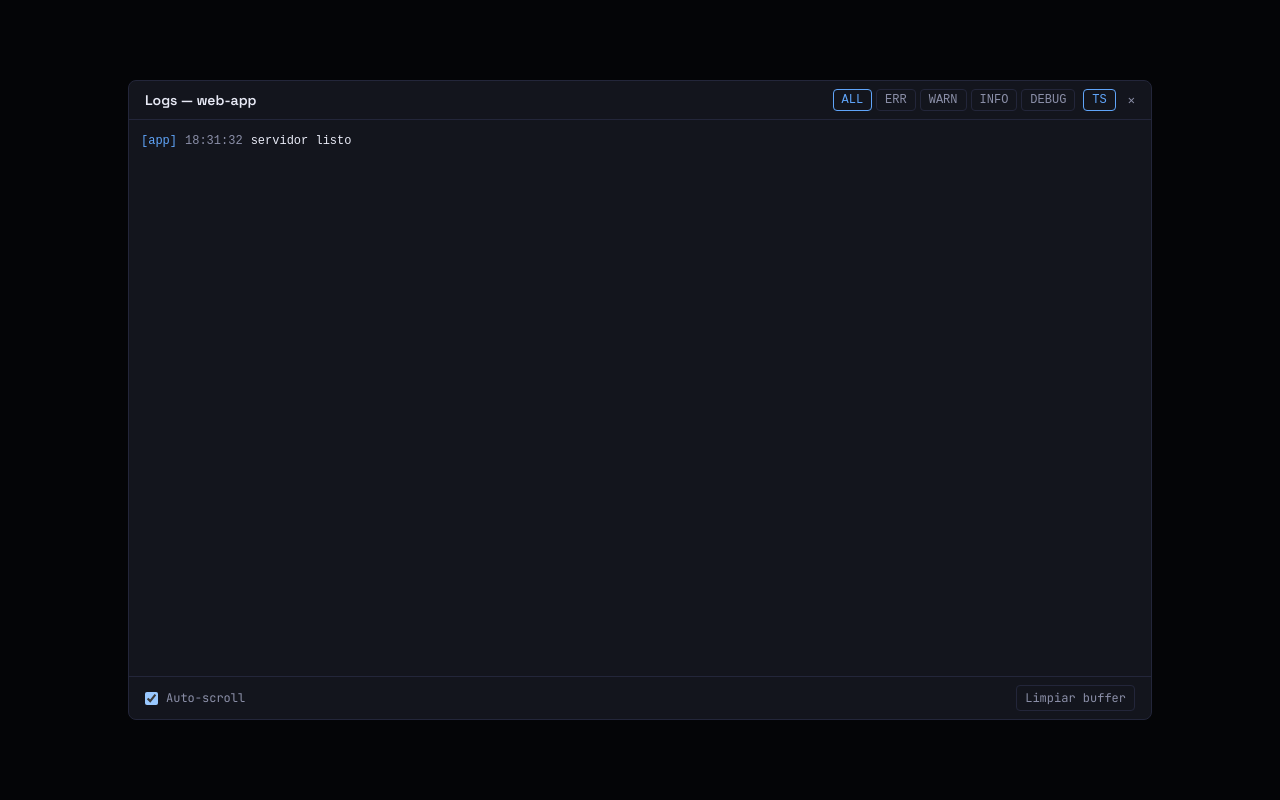
Test case: LogsModal — toggle timestamps › en las líneas de texto usa la hora de Docker y no la repite en el mensaje
Expected: the text "18:31:32" is shown, [185,134,243,148]
Expected: the text "servidor listo" is shown, [251,134,351,148]
What coordinates should you click on to do the following:
click the button with aria-label "toggle timestamps"
I would click on:
 (1100, 100)
Its box is [1083,89,1116,111].
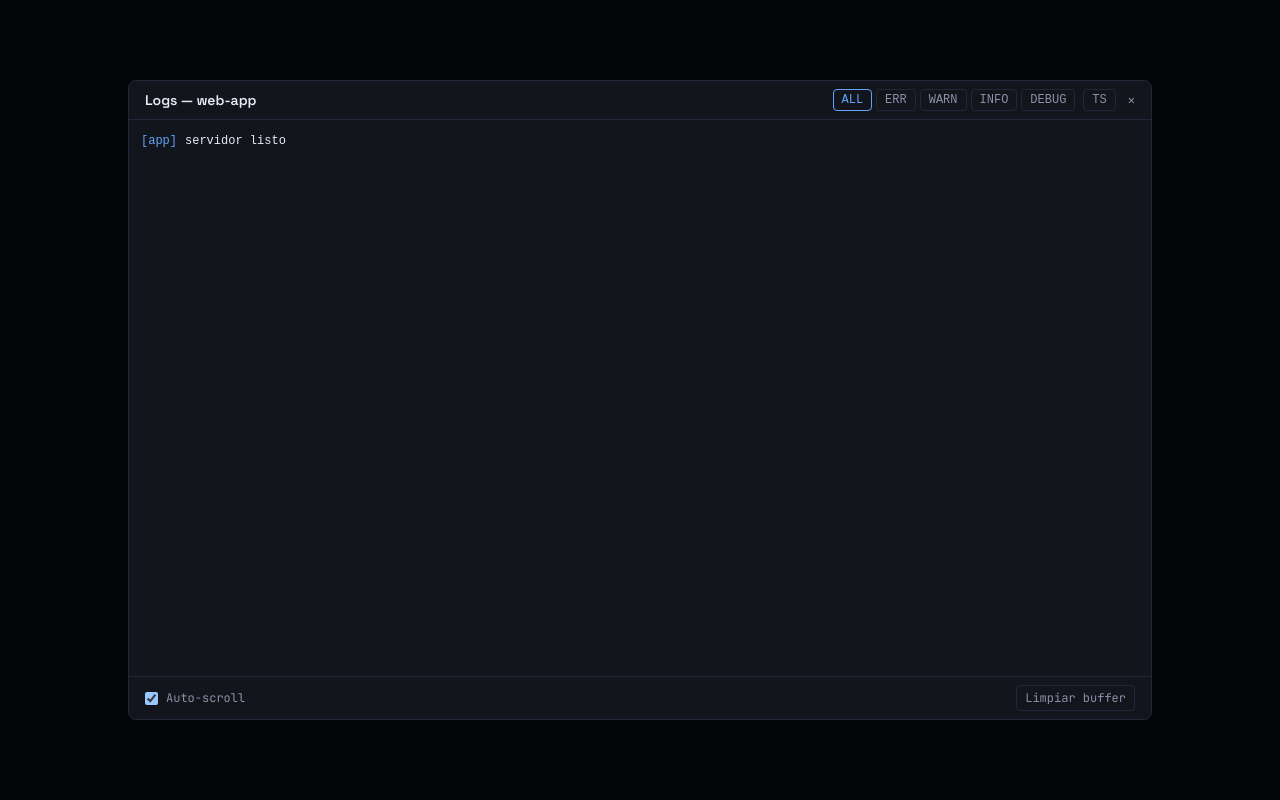
Result: the text "18:31:32" is gone
